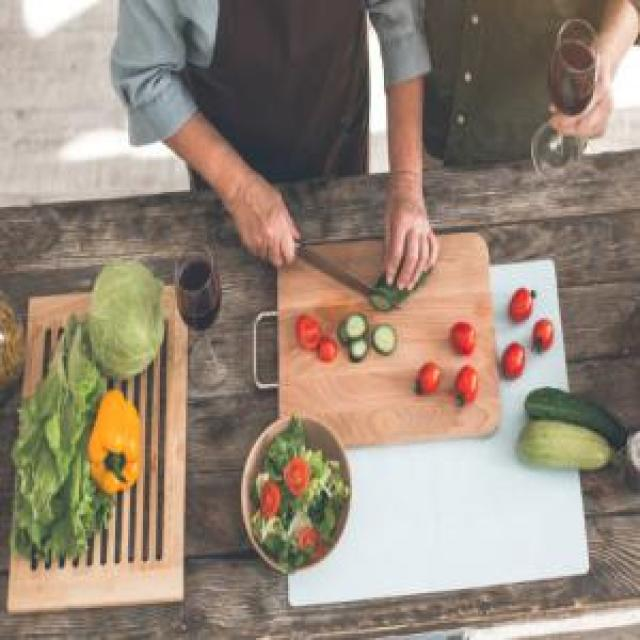knife: (273, 220, 404, 324)
